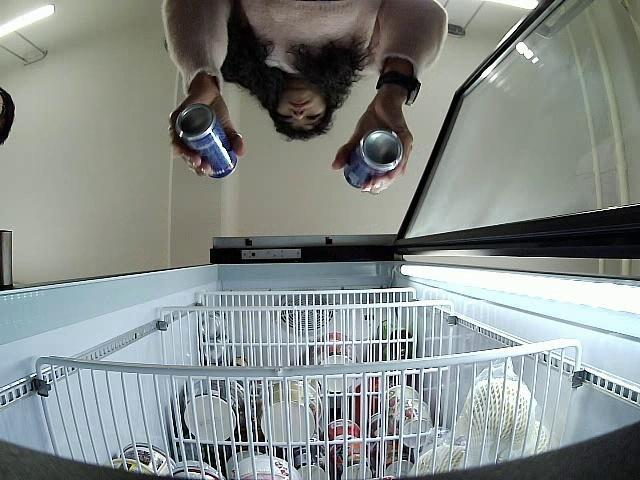16_hot6: (174, 103, 239, 178), (345, 128, 405, 190)
